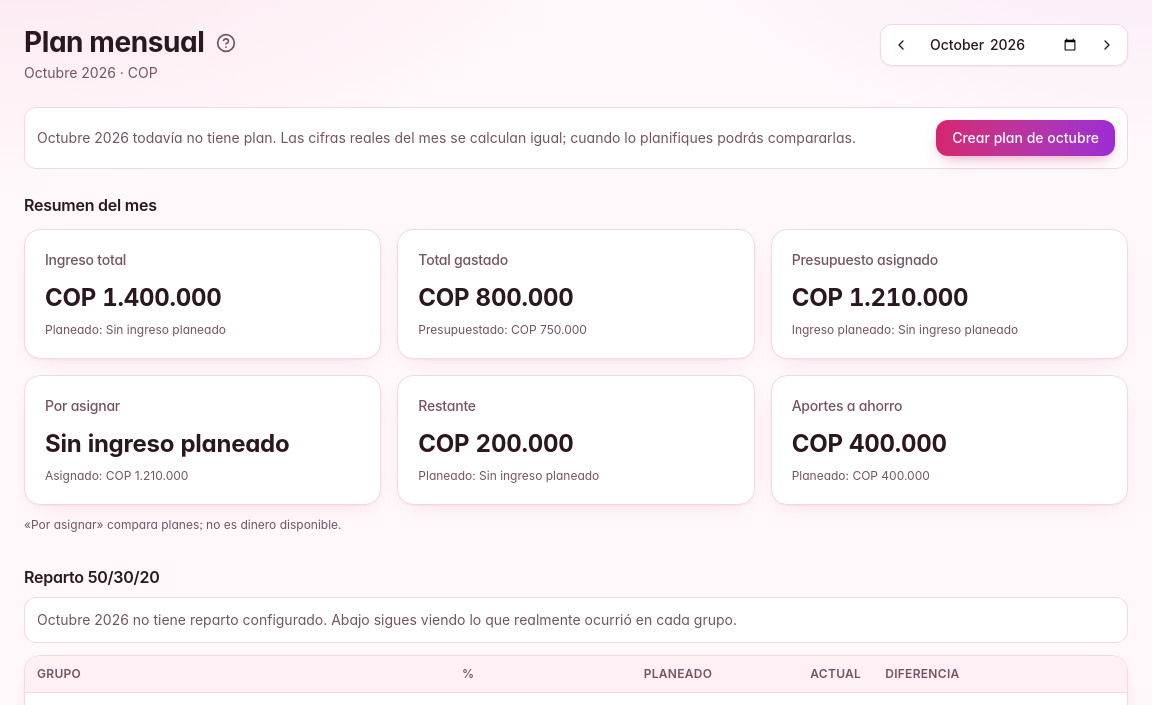
it: Plan › ingresos planeados › tras crear el plan abre el diálogo de la primera fuente
Click the button "Crear plan de octubre".
click(1026, 138)  # box [936,120,1115,156]
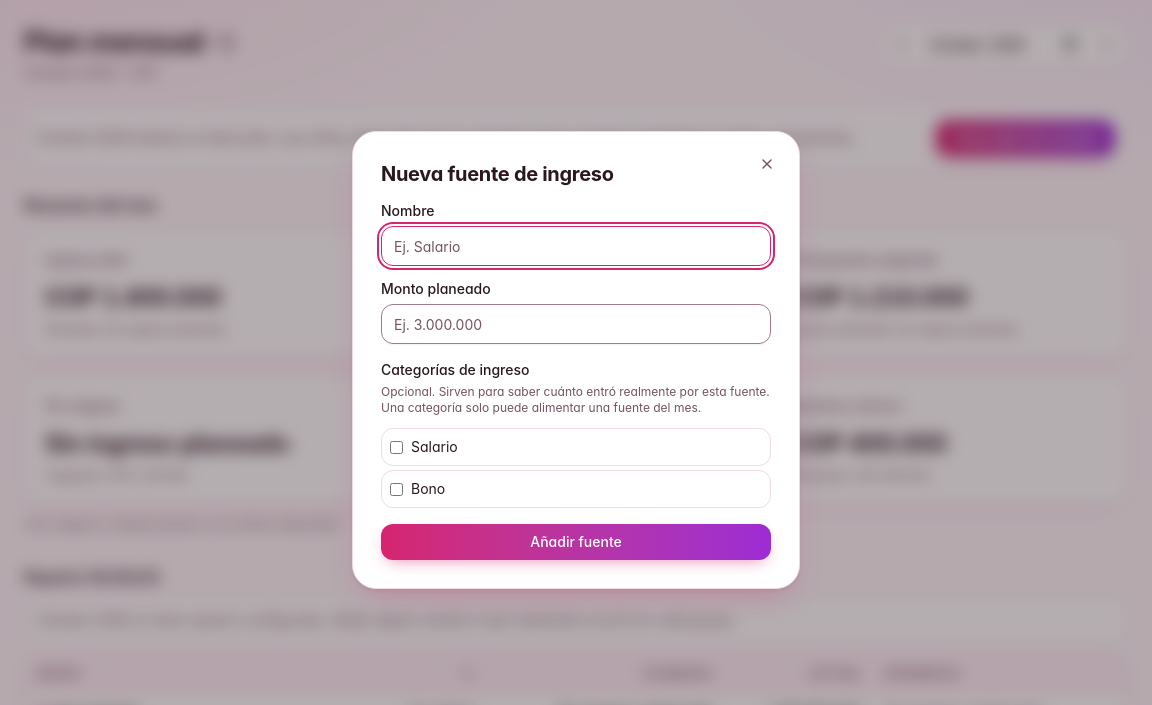
Expected: the dialog is shown, [352,131,800,589]
Expected: the heading "Nueva fuente de ingreso" is shown, [381,162,614,186]
